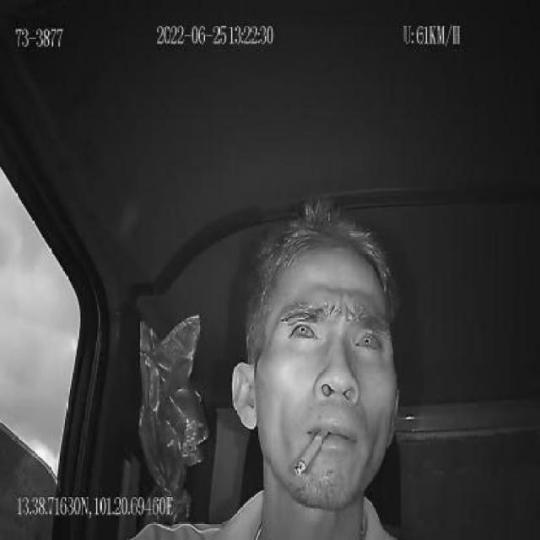smoking: (294, 430, 328, 476)
